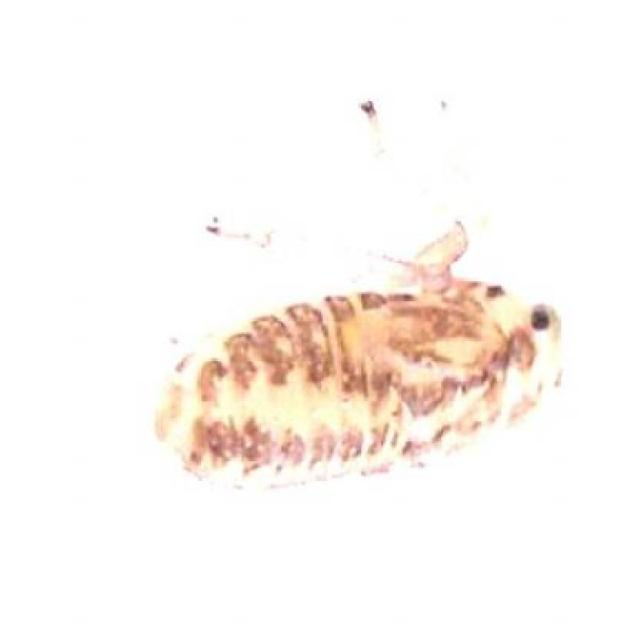brown-planthopper: (150, 243, 568, 491)
